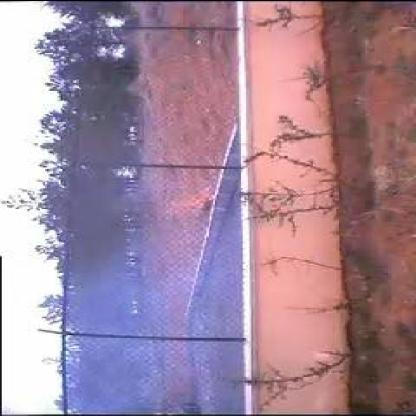-: (90, 229, 239, 373)
